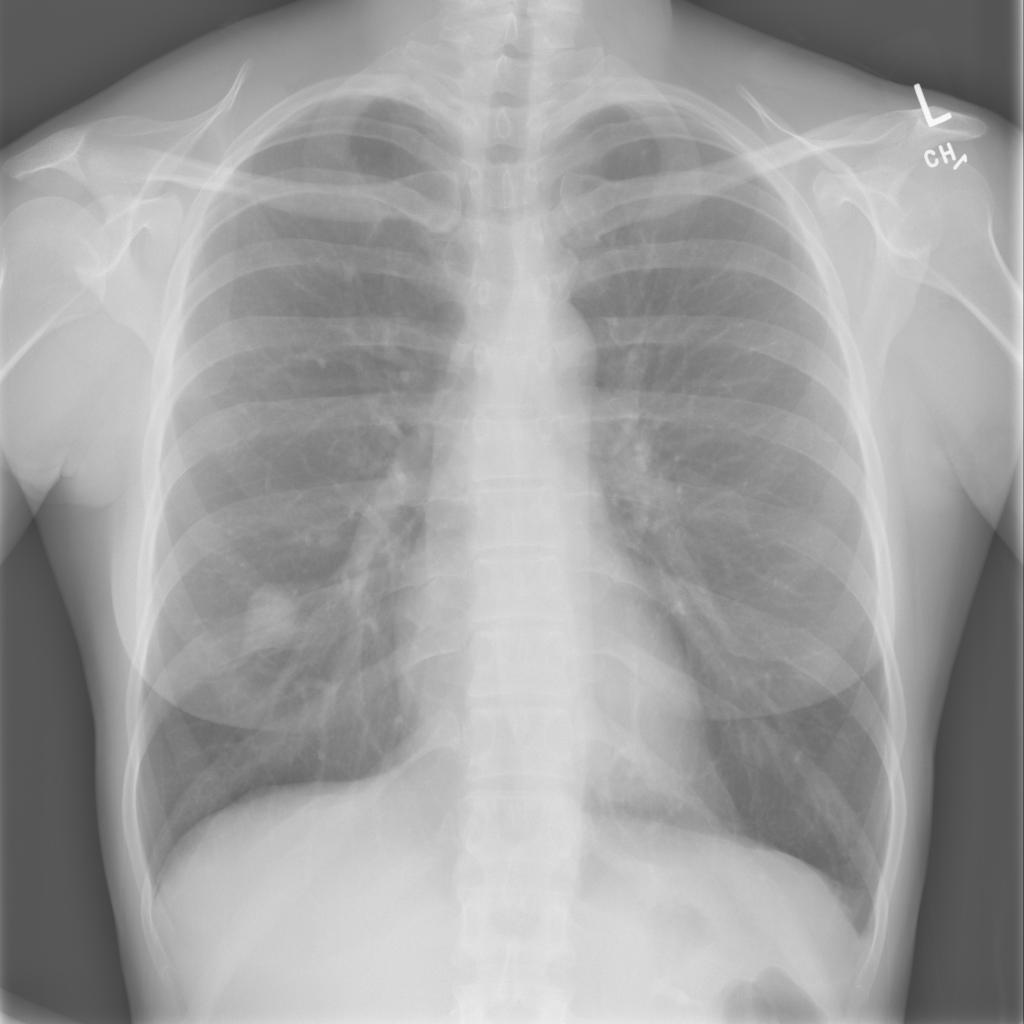Nodule: (62, 167, 78, 182)
